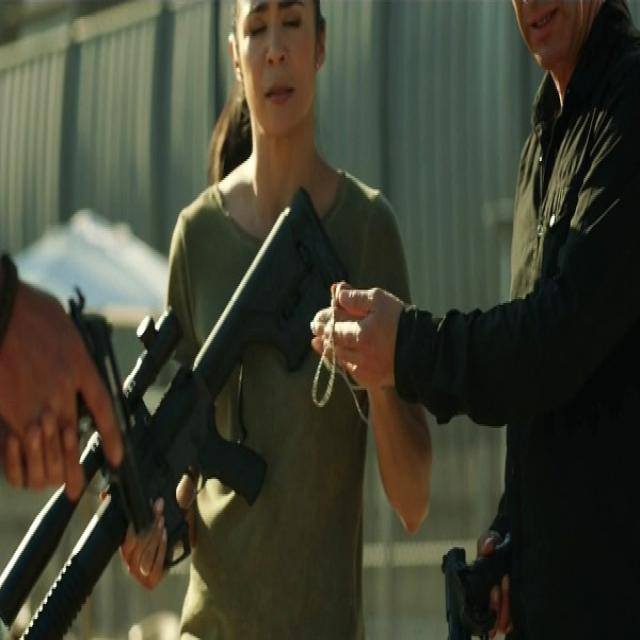rifle: (1, 182, 351, 640)
